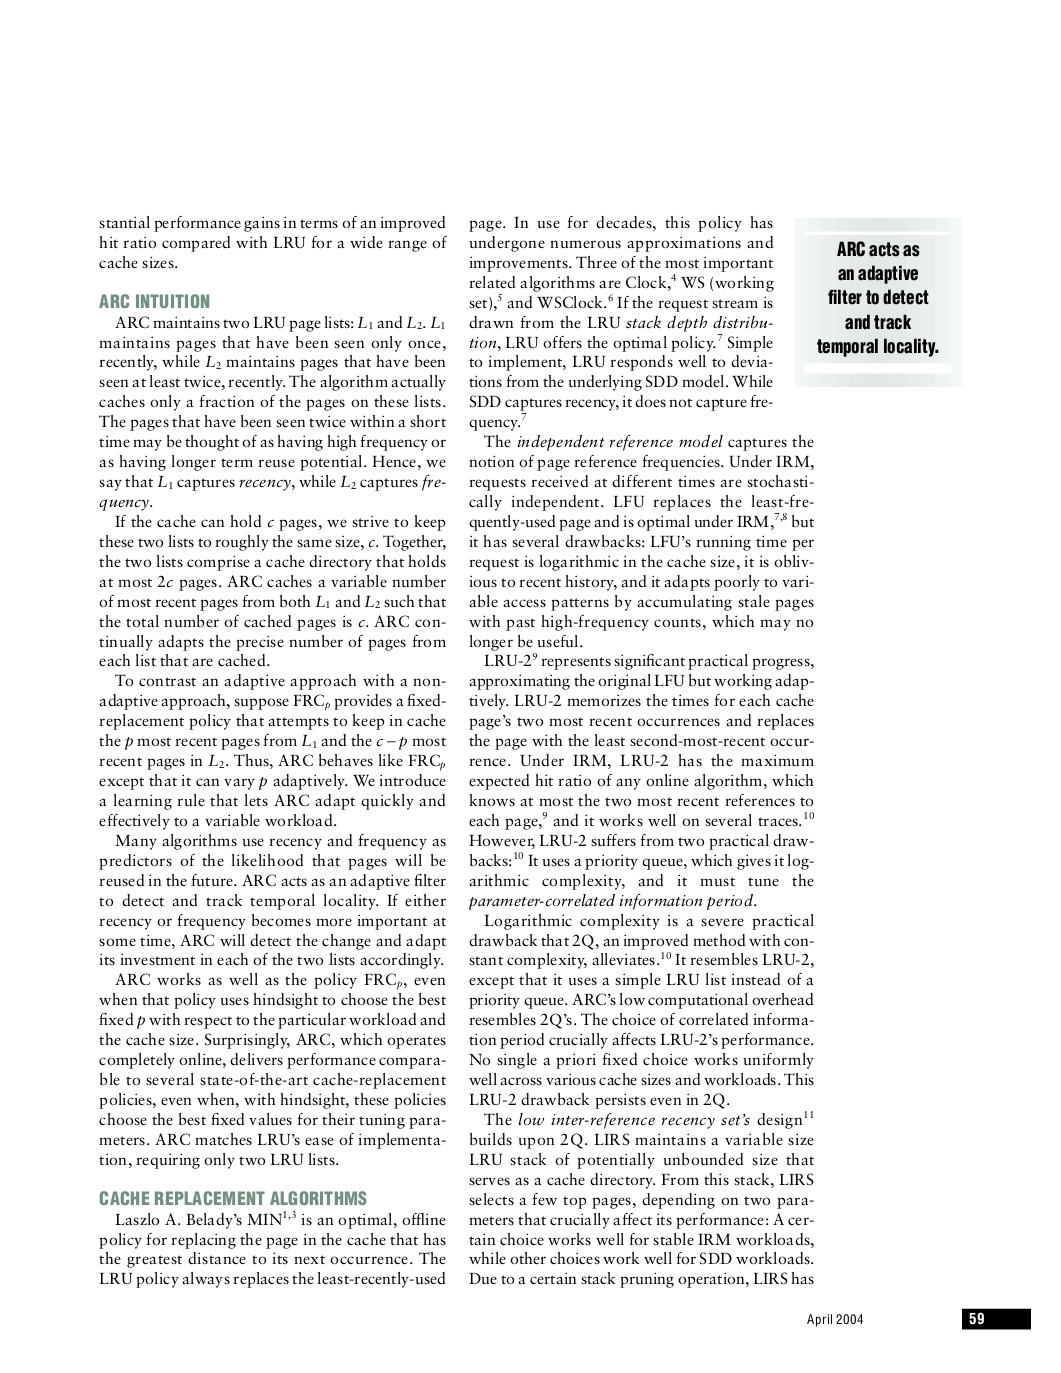figure: (808, 218, 950, 386)
